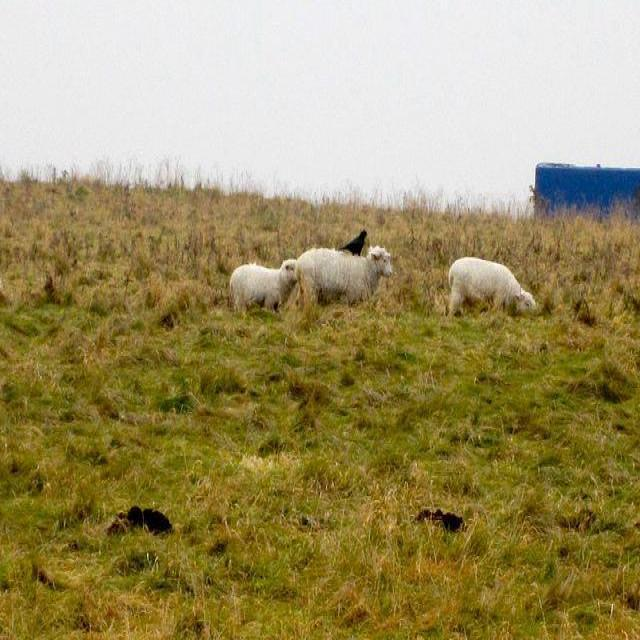Sheep: (295, 246, 393, 306), (448, 257, 538, 319), (228, 260, 299, 313)
